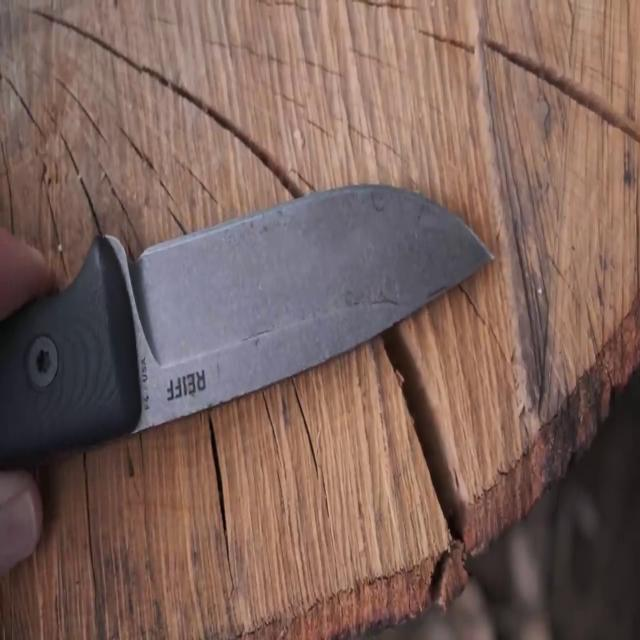Knife: (0, 164, 520, 448)
